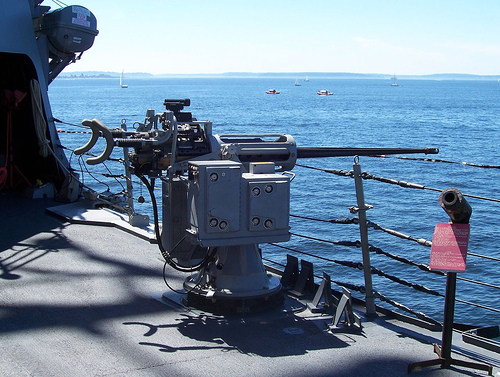rifle: (67, 87, 467, 264)
